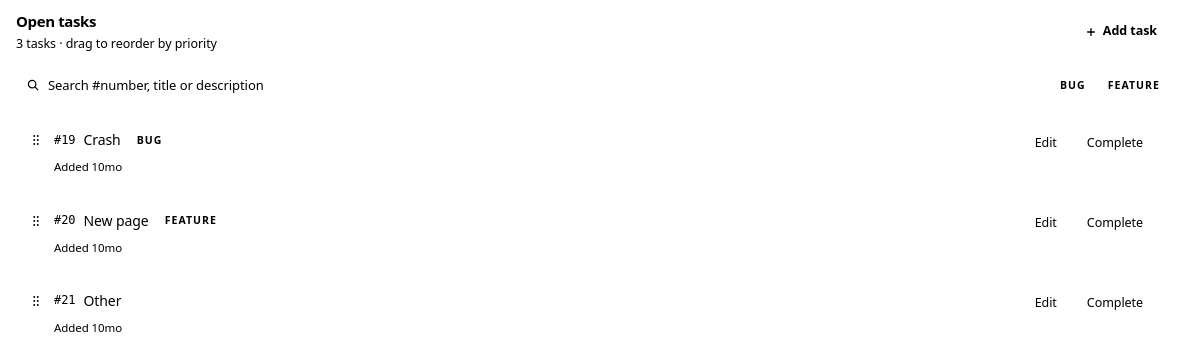
Test: ProjectTaskManager › filters by label and clears the whole search and filter
Click the button "bug" at (1073, 85), box [1052,75,1094,95]
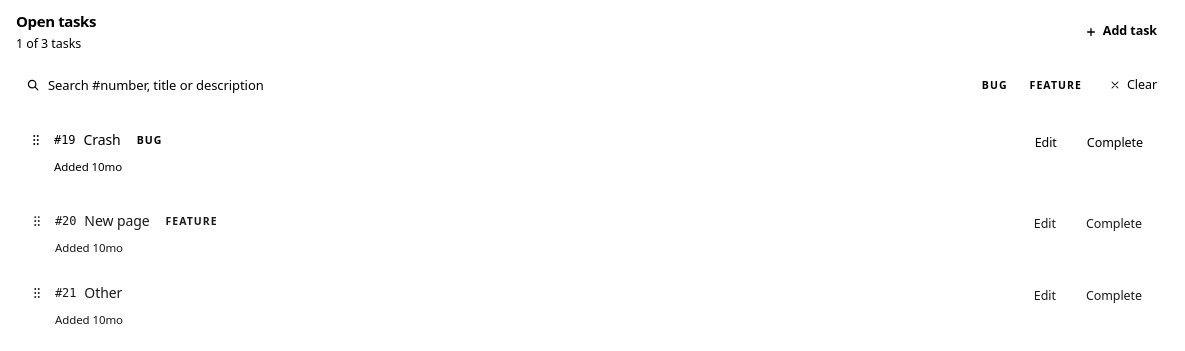
Click the button "feature" at (1056, 85), box [1022,75,1090,95]
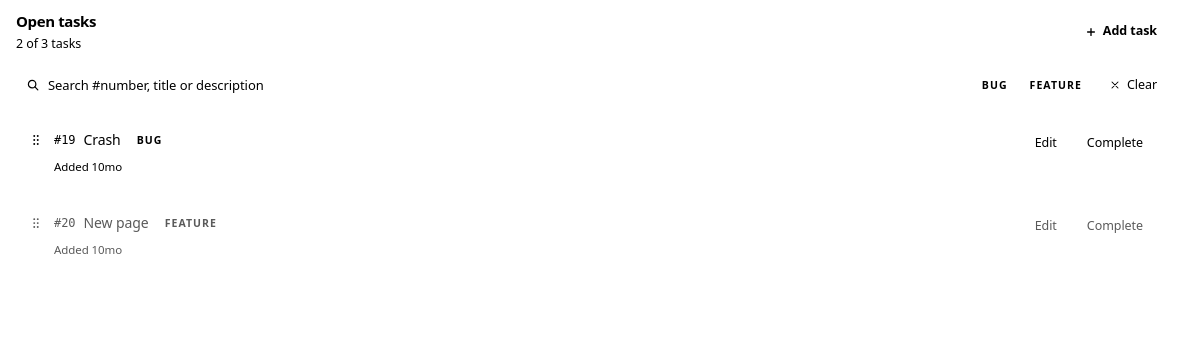
Type "page" into the search field at (491, 85), box [16,69,966,101]
Wait 300 ms
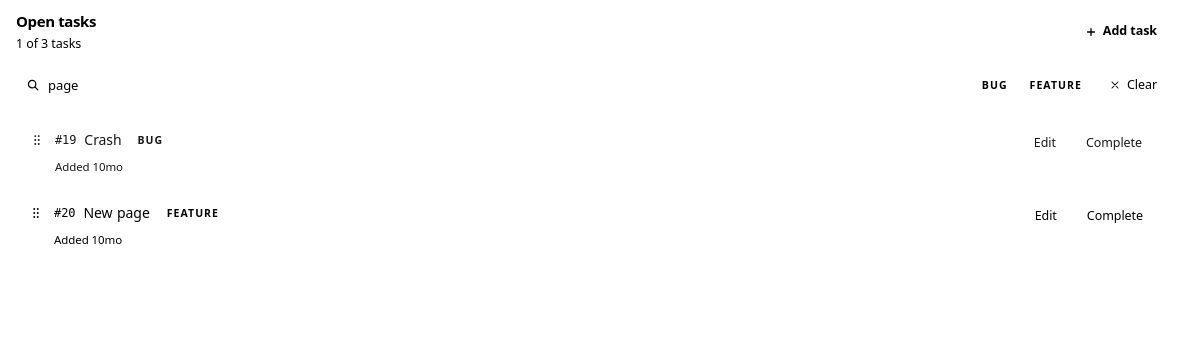
Click the button titled "Clear search and label filters" at (1133, 85), box [1098,71,1168,99]
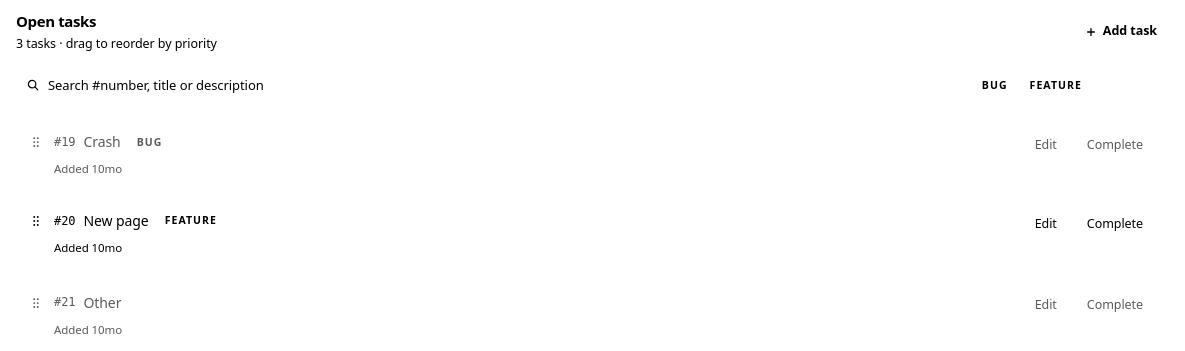
expect the search field is empty: met, box [16,69,966,101]
